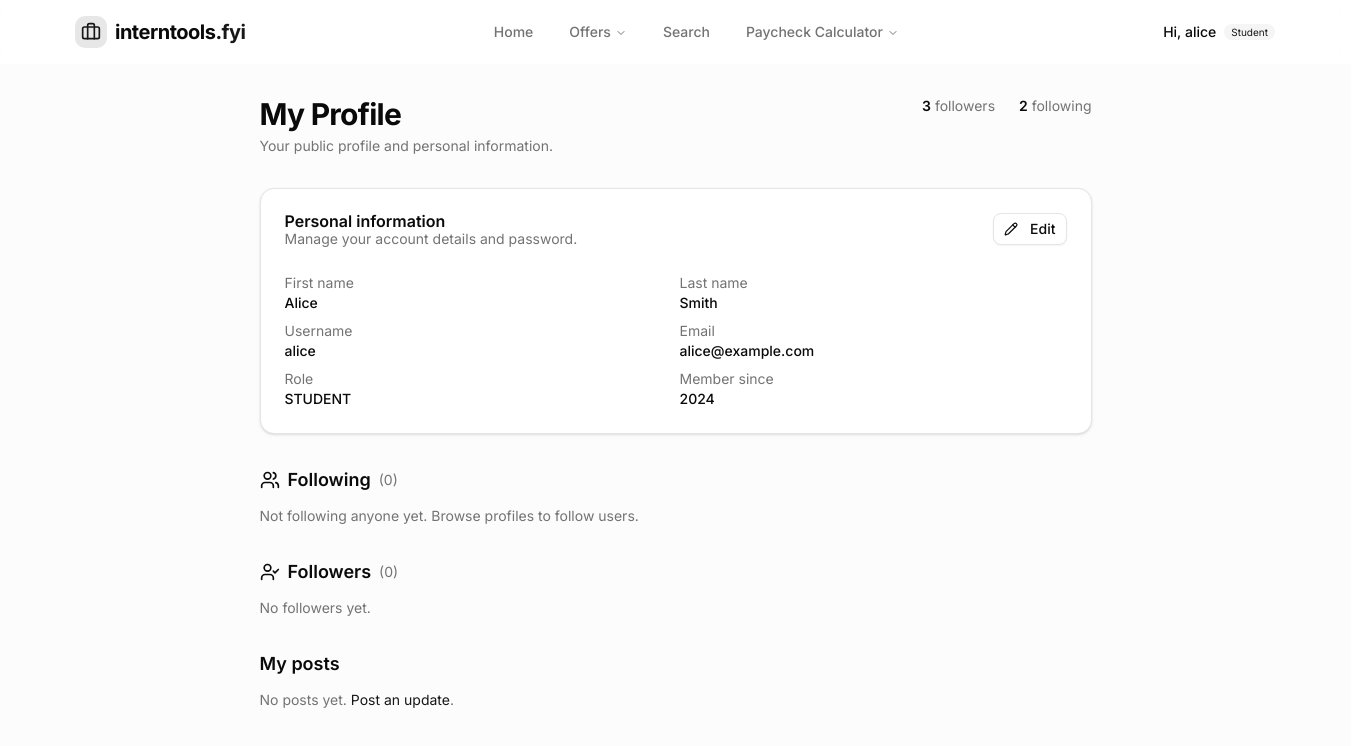
Test: /profile page › shows error when new password is set without current password
Click the button "Edit" at x=1030, y=229, box x1=993 y1=213 x2=1066 y2=245
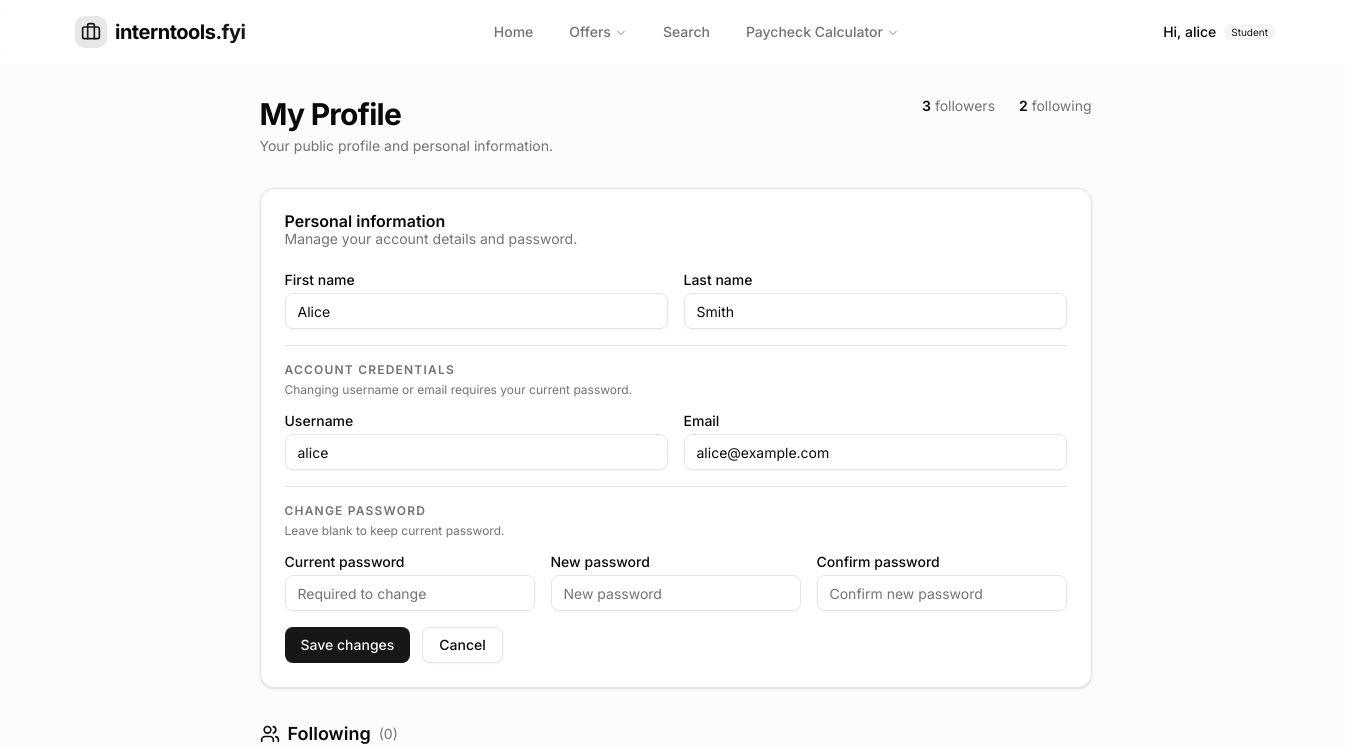
Type "newpass1" into the password field labelled "New password" at x=676, y=593, box x1=550 y1=575 x2=800 y2=611
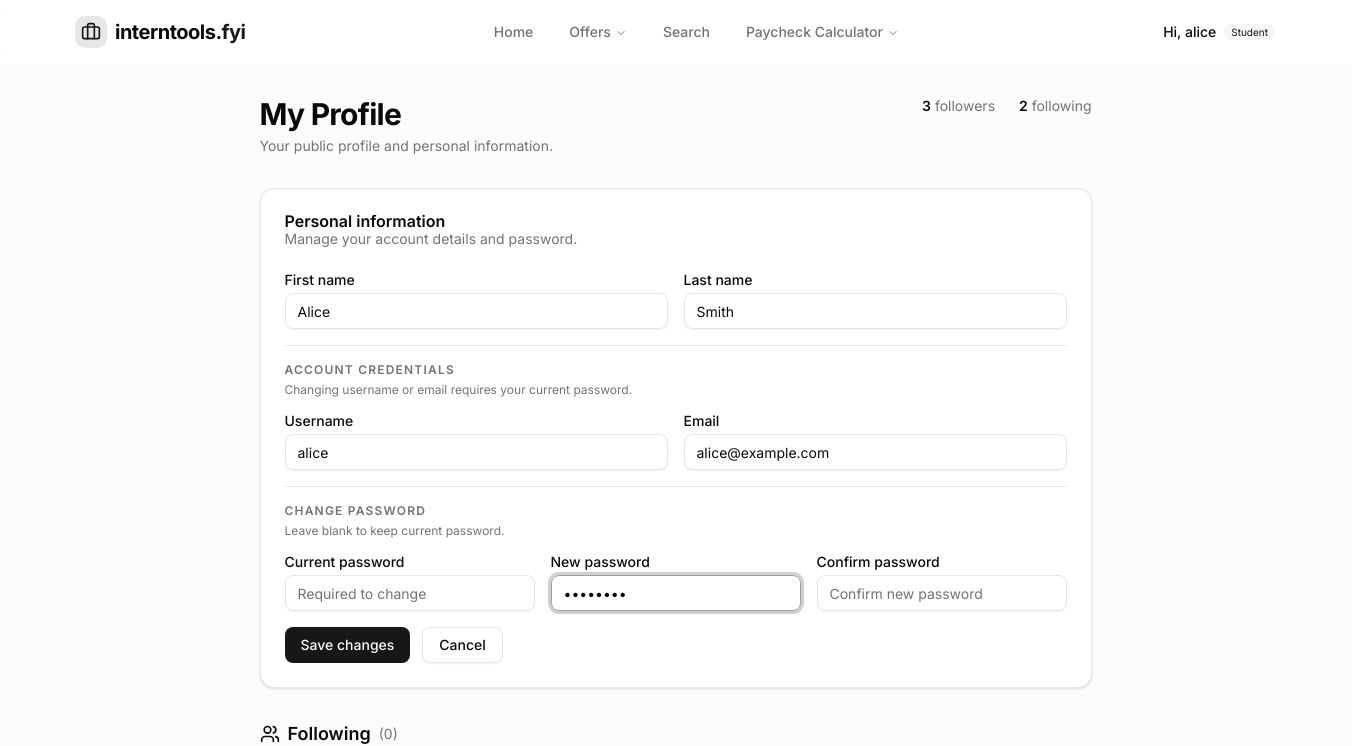
Type "newpass1" into the password field labelled "Confirm password" at x=942, y=593, box x1=816 y1=575 x2=1066 y2=611
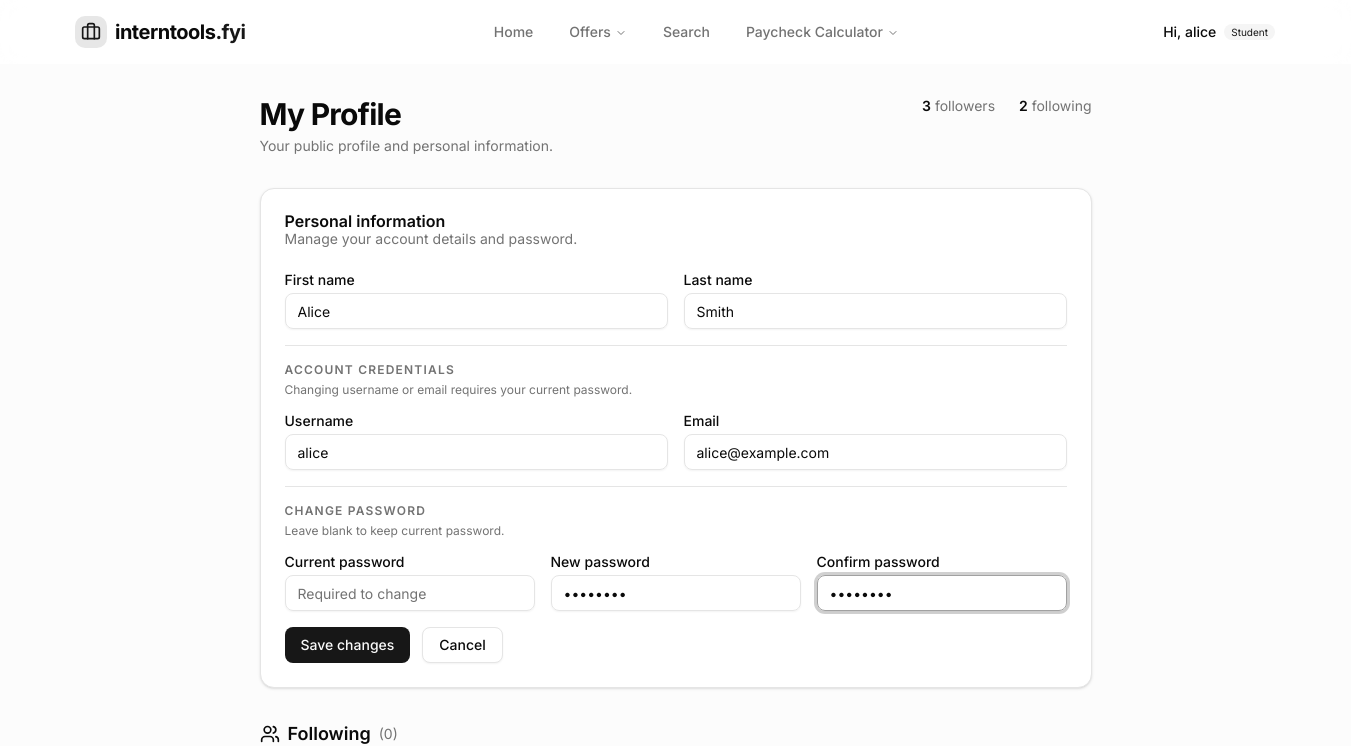
Click the button "Save changes" at x=347, y=645, box x1=284 y1=627 x2=410 y2=663
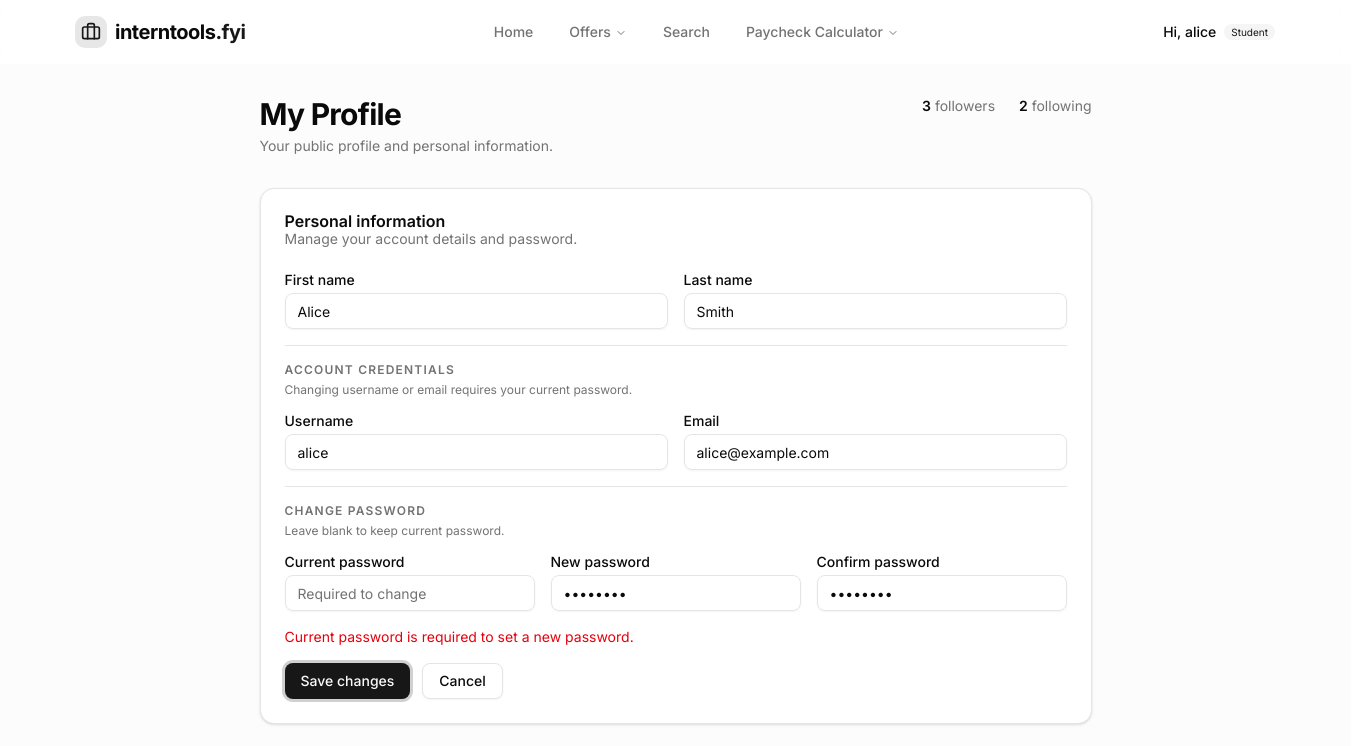
Expected: the text "Current password is required to set a new password." is shown, x1=284 y1=628 x2=634 y2=645
